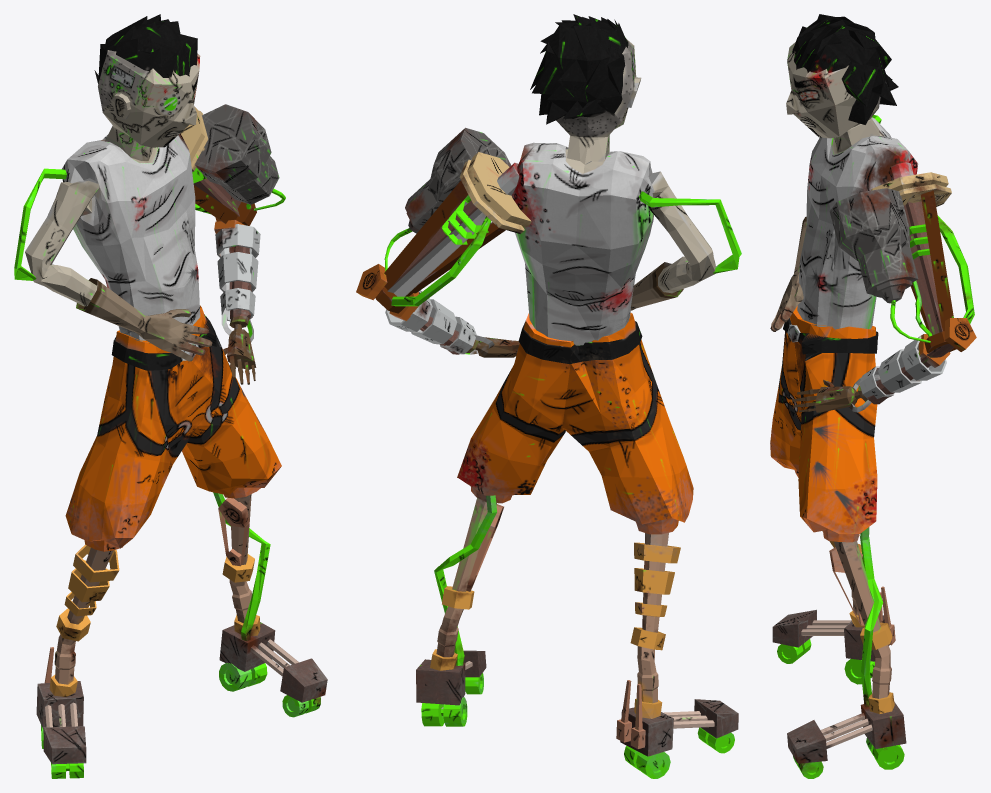
Rendered from CyborgFINALAnimation_000008.obj.
3 renders of one model, left to right at view 1: azimuth 30°, elevation 25°; view 2: azimuth 150°, elevation 25°; view 3: azimuth 270°, elevation 25°, orthographic. The views are drawn at different scales.
Visible parts, largest first — view 1: CyborgMesh_Cube.002; view 2: CyborgMesh_Cube.002; view 3: CyborgMesh_Cube.002.
Boxes of the visible parts, bbox=[...] form: CyborgMesh_Cube.002: bbox=[14, 14, 327, 778]; CyborgMesh_Cube.002: bbox=[356, 14, 741, 778]; CyborgMesh_Cube.002: bbox=[770, 14, 976, 778].
Bounding box in the file's own units: 4.32 × 9.59 × 2.59.
